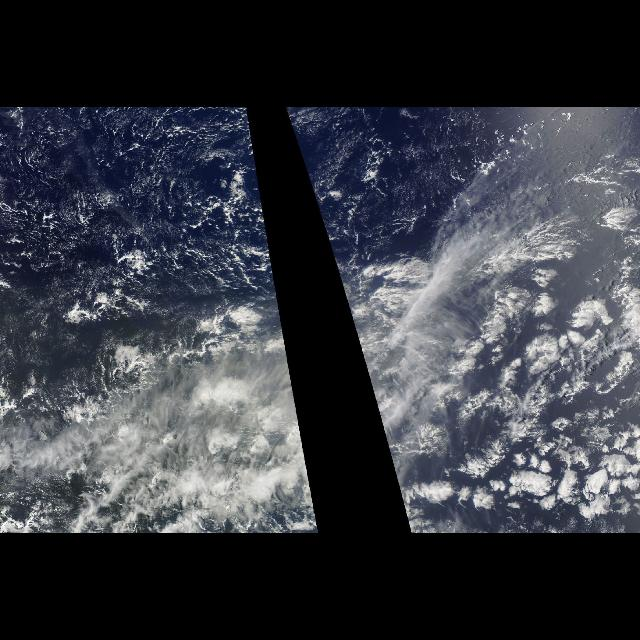Flower: (468, 229, 640, 533)
Gravel: (1, 107, 282, 321), (283, 107, 383, 321)
